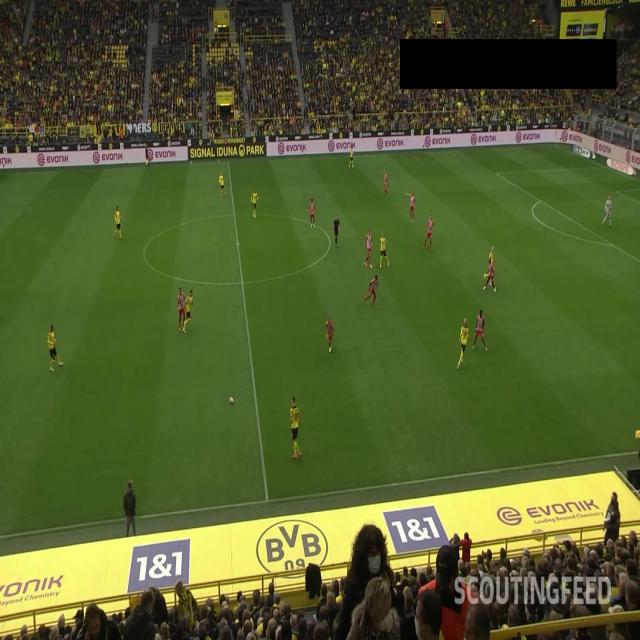ball: (230, 396, 234, 405)
goalkeeper: (601, 195, 612, 228)
player: (47, 324, 64, 372), (290, 396, 302, 459), (457, 318, 470, 369), (473, 309, 488, 351), (183, 289, 194, 333), (364, 274, 378, 308), (483, 258, 496, 293), (422, 214, 434, 251), (379, 232, 390, 269), (178, 286, 186, 332), (364, 229, 373, 268), (113, 205, 123, 240), (325, 316, 334, 352), (250, 188, 258, 218), (218, 171, 227, 197), (410, 191, 416, 223), (309, 197, 315, 228), (348, 147, 354, 168), (384, 170, 388, 196)
referee: (333, 213, 340, 247), (144, 144, 151, 170)
